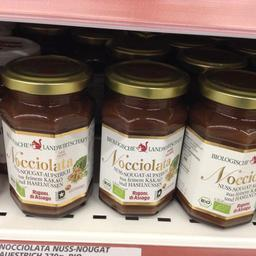jam: (0, 54, 95, 216), (97, 58, 190, 216), (176, 68, 255, 228)
